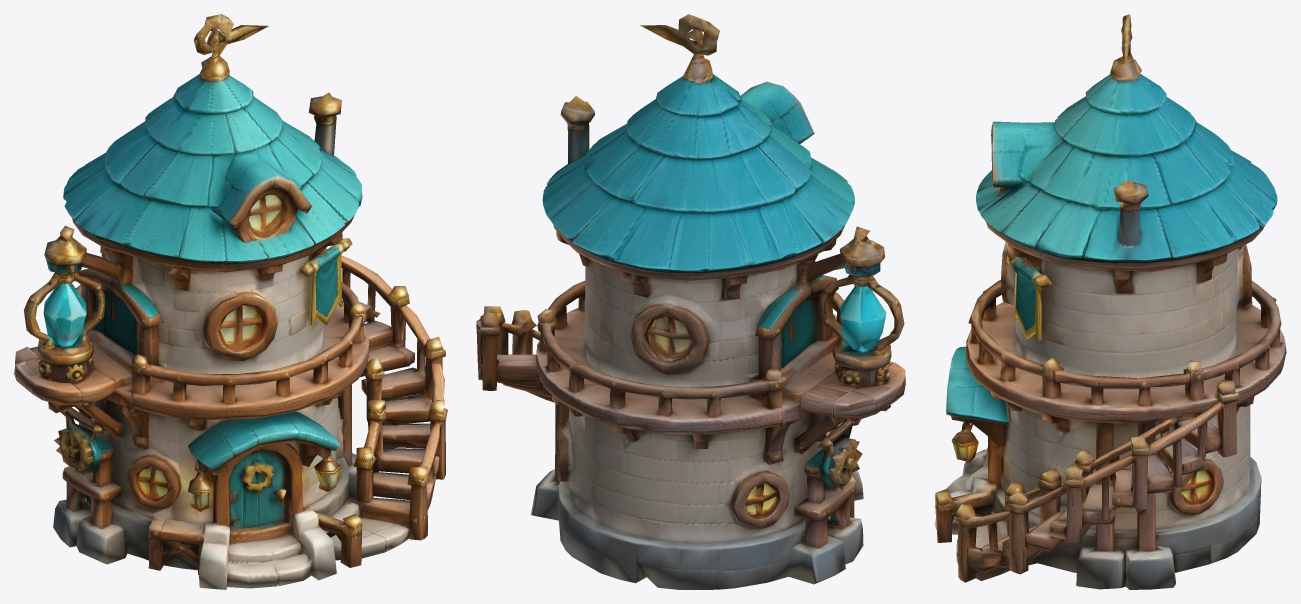
File: X_HouseB_fixed.glb
The picture shows the model from 3 angles, left to right: view 1: azimuth 30°, elevation 25°; view 2: azimuth 150°, elevation 25°; view 3: azimuth 270°, elevation 25°; orthographic projection. The views are drawn at different scales.
Parts seen in each view (by area): view 1: tripo_node_af51e8da-27c8-4567-80b6-ceb5db07660f; view 2: tripo_node_af51e8da-27c8-4567-80b6-ceb5db07660f; view 3: tripo_node_af51e8da-27c8-4567-80b6-ceb5db07660f.
Boxes of the visible parts, x1,y1,x2,y2 form: tripo_node_af51e8da-27c8-4567-80b6-ceb5db07660f: (14, 14, 447, 589); tripo_node_af51e8da-27c8-4567-80b6-ceb5db07660f: (476, 14, 905, 589); tripo_node_af51e8da-27c8-4567-80b6-ceb5db07660f: (934, 14, 1286, 589).
Size of the model in its own units: 0.8158 by 0.9781 by 0.6195.
Materials: 1 (1 with a texture image).
